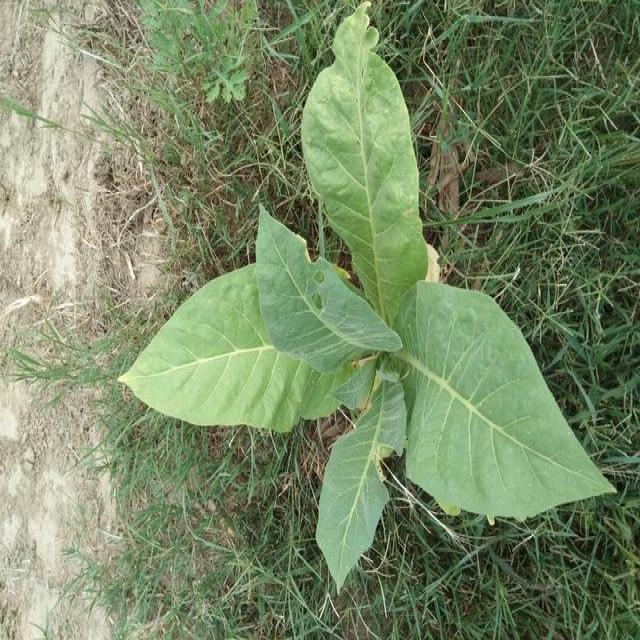crop: (122, 13, 618, 577)
